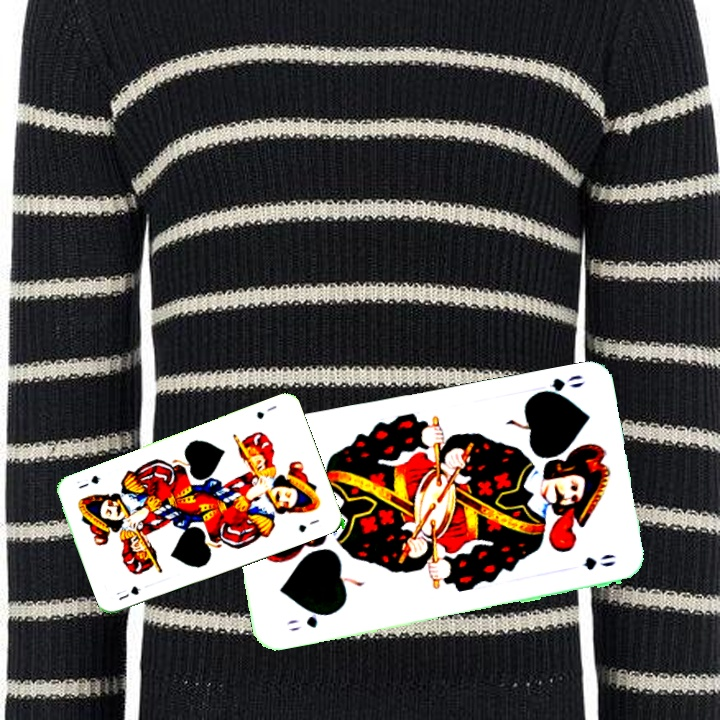GO: (529, 371, 587, 400), (282, 608, 335, 634)
GU: (115, 582, 143, 603), (252, 401, 279, 422)
